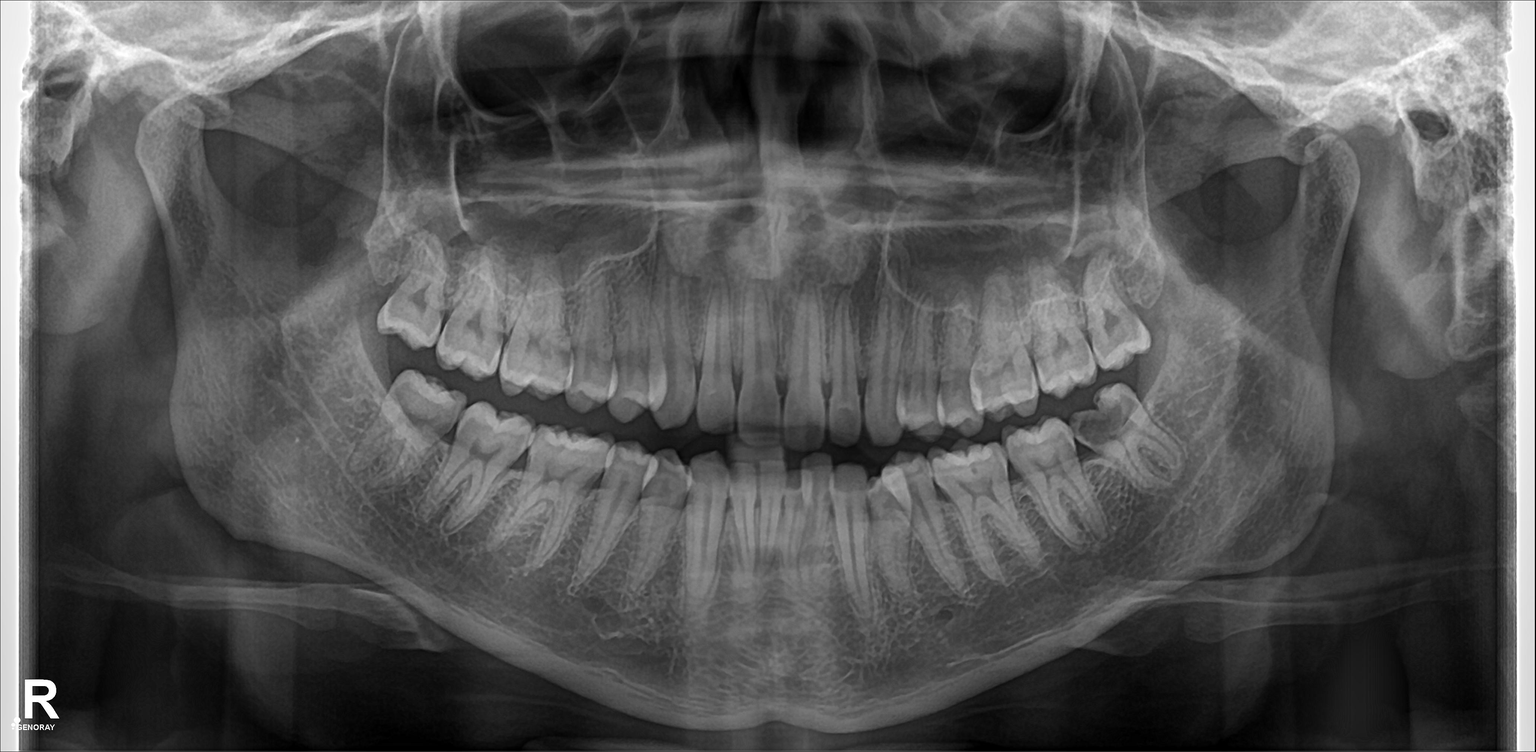Dental Caries: (1071, 404, 1131, 441)
Impacted Third Molar: (1080, 393, 1186, 486)
